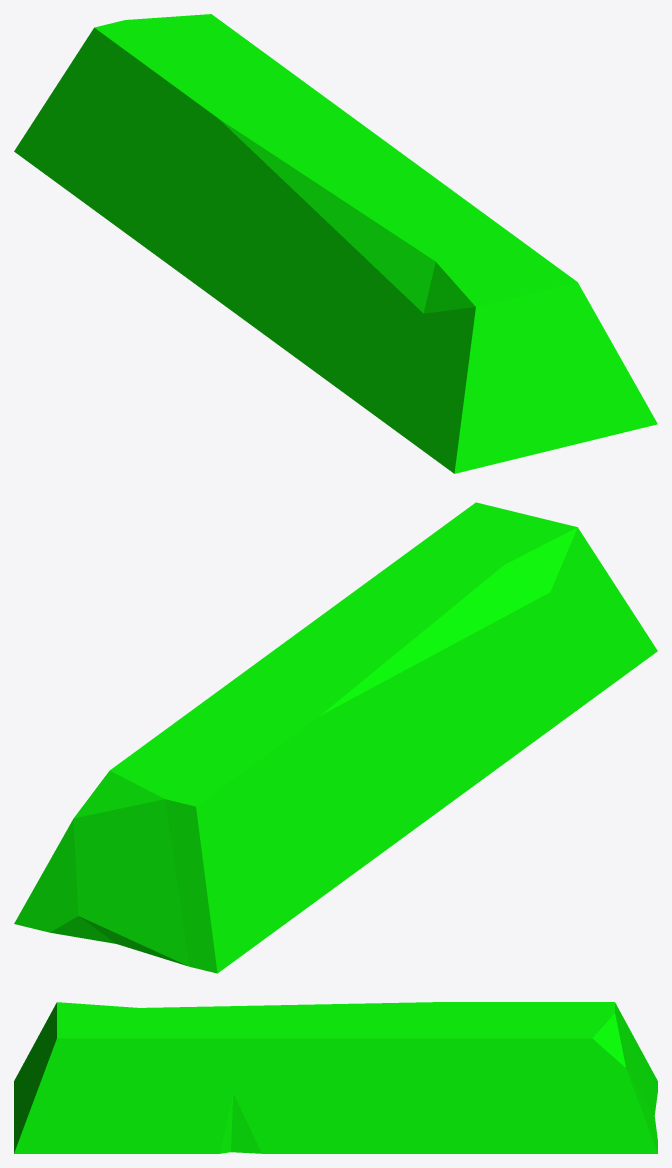
File: SM_Ingot_Metal.fbx
3 renders of one model, top to bottom at view 1: azimuth 30°, elevation 25°; view 2: azimuth 150°, elevation 25°; view 3: azimuth 270°, elevation 25°, orthographic. The views are drawn at different scales.
Parts seen in each view (by area): view 1: ingot-metal; view 2: ingot-metal; view 3: ingot-metal.
Part boxes in pixels (box(x1,y1,x2,y2)): ingot-metal: box(14, 14, 657, 473); ingot-metal: box(14, 502, 657, 973); ingot-metal: box(14, 1002, 657, 1153).
Size of the model in its own units: 0.08 by 0.05 by 0.3.
